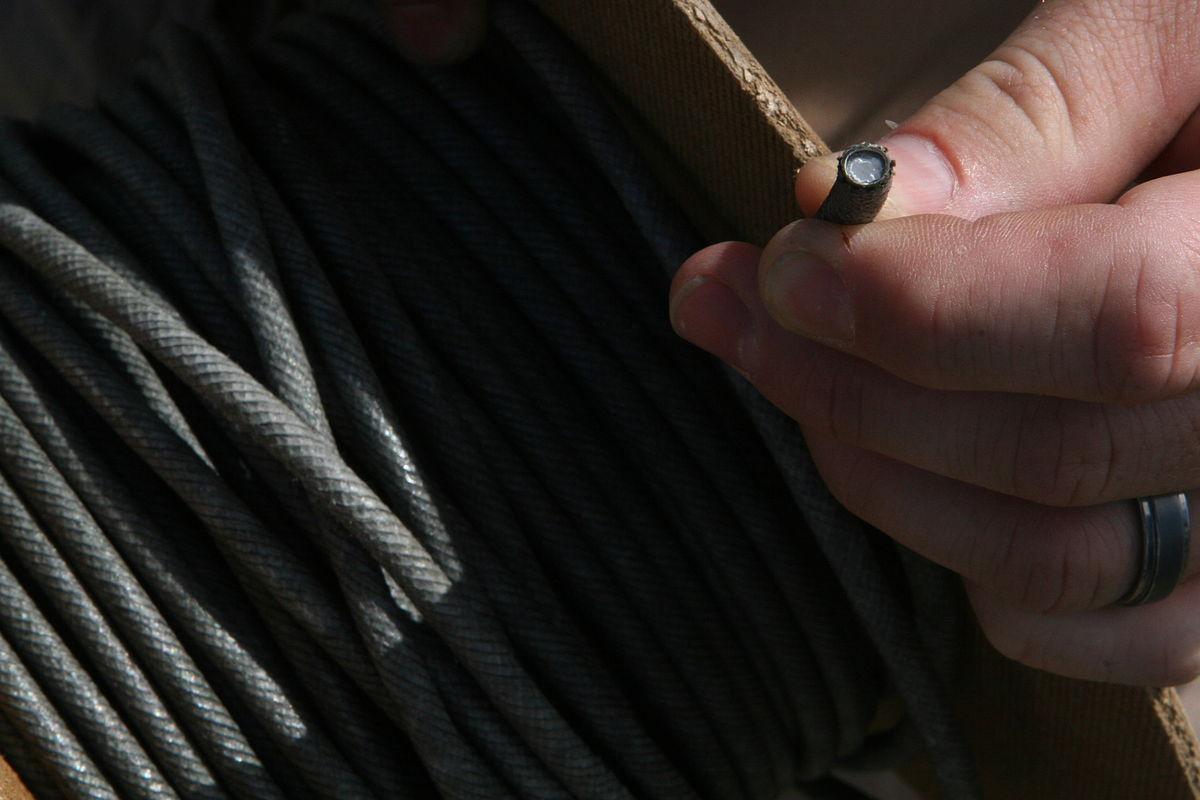Nonrec_Tangler: (4, 56, 1067, 754)
